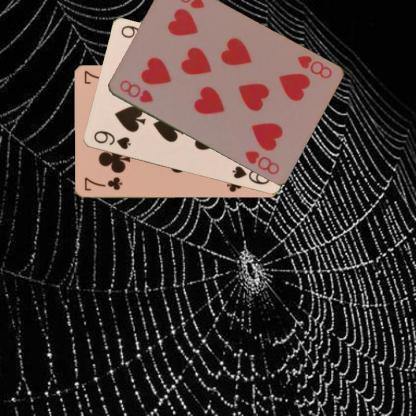7c: (82, 174, 124, 192)
8h: (294, 53, 333, 80), (116, 78, 154, 104)
9s: (90, 128, 132, 150)
